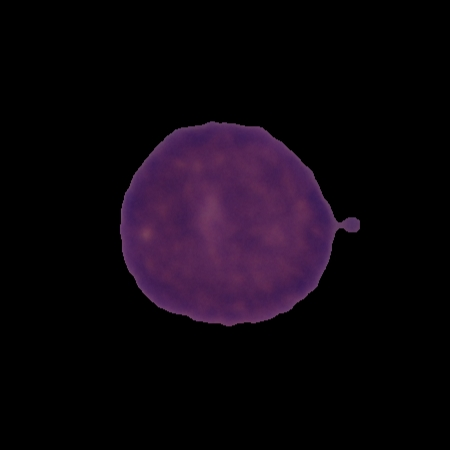HEM: (115, 117, 363, 329)
